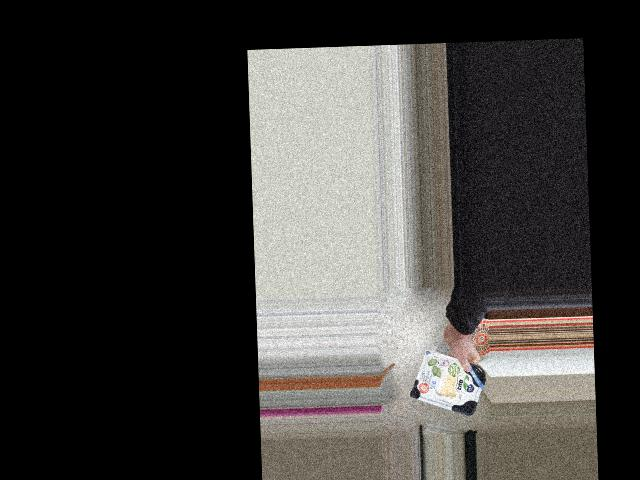cheese: (416, 354, 478, 404)
